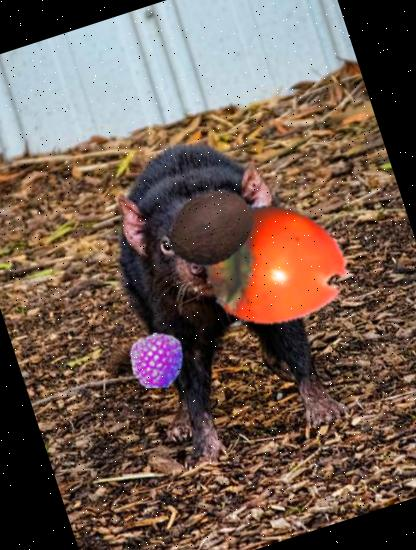Cocos: (154, 172, 267, 285)
Kaki: (184, 172, 368, 356)
Raspberry: (122, 324, 192, 396)
